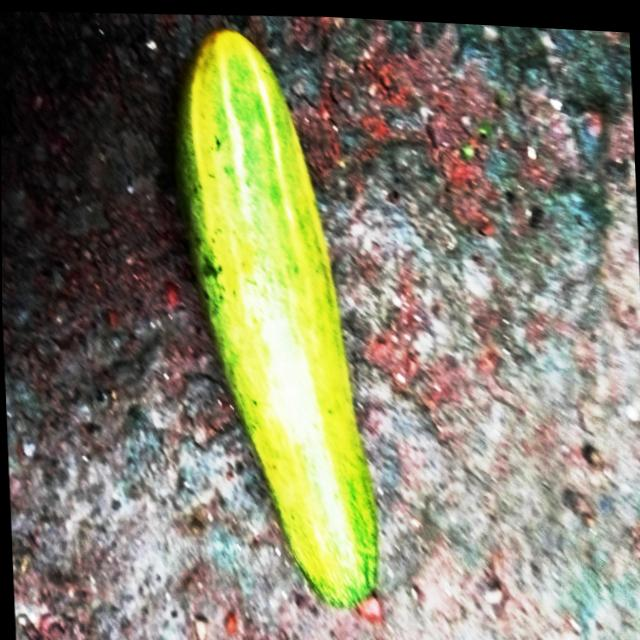Fresh-Cucumber: (165, 16, 383, 617)
